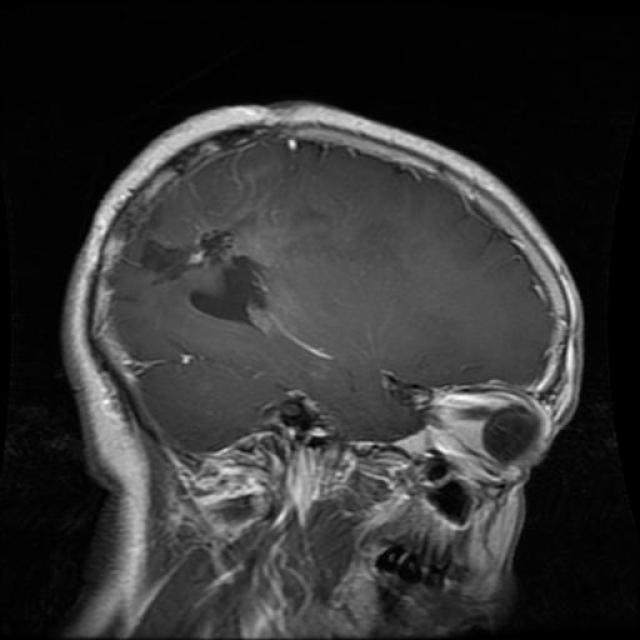glioma: (138, 221, 288, 335)
